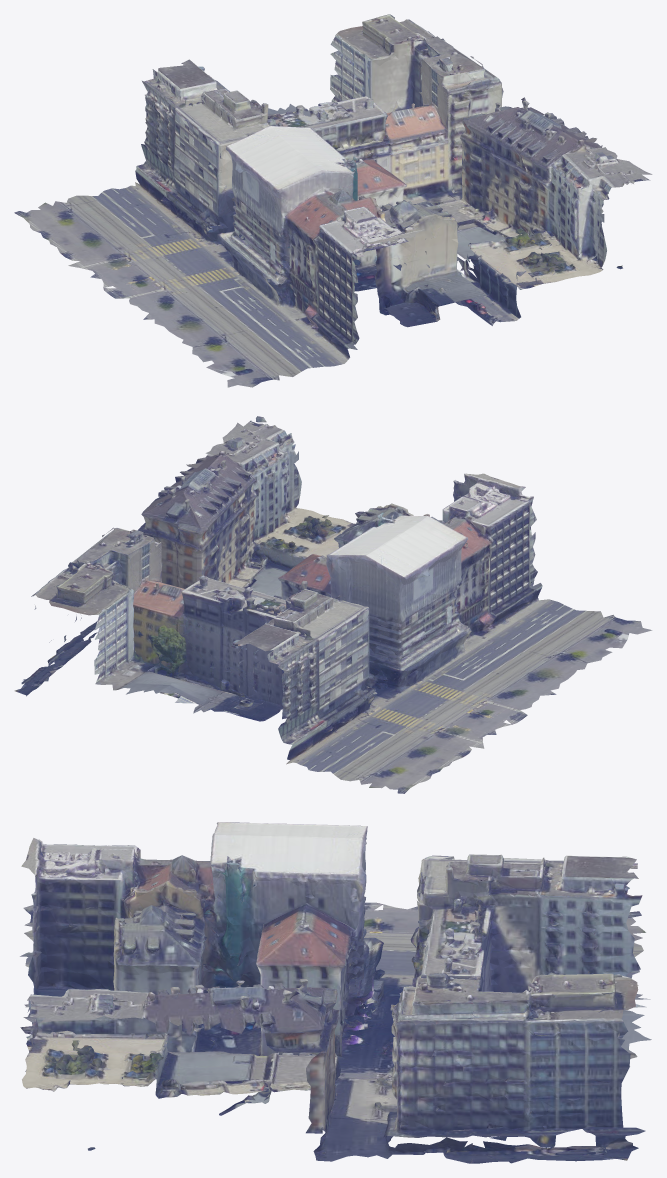
3 renders of one model, top to bottom at view 1: azimuth 30°, elevation 25°; view 2: azimuth 150°, elevation 25°; view 3: azimuth 270°, elevation 25°, orthographic. The views are drawn at different scales.
Bounding box in the file's own units: 108 × 32.21 × 108.
Materials: 1 (1 with a texture image).
